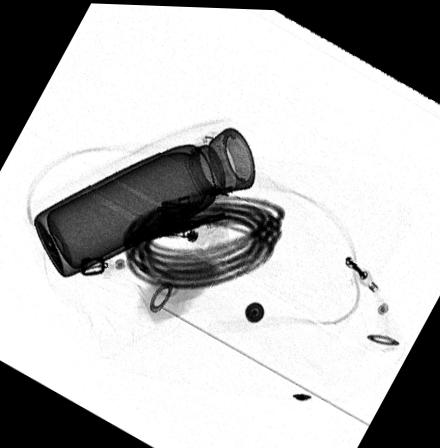Scissors: (81, 209, 226, 286)
